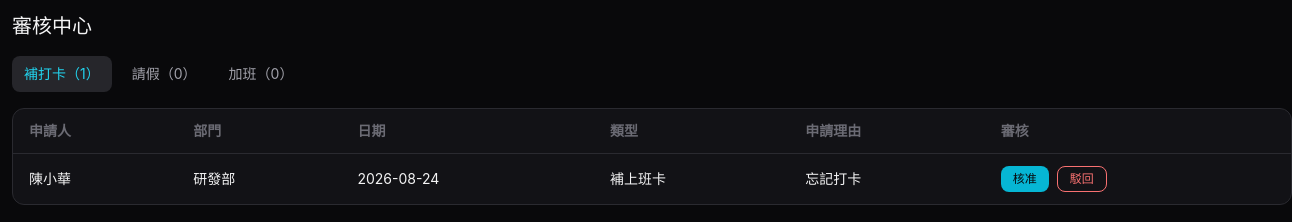
Test case: 核准後該筆從清單移除
The width and height of the screenshot is (1292, 222).
Click the button "核准": point(1025, 179) [1001,166,1049,192]
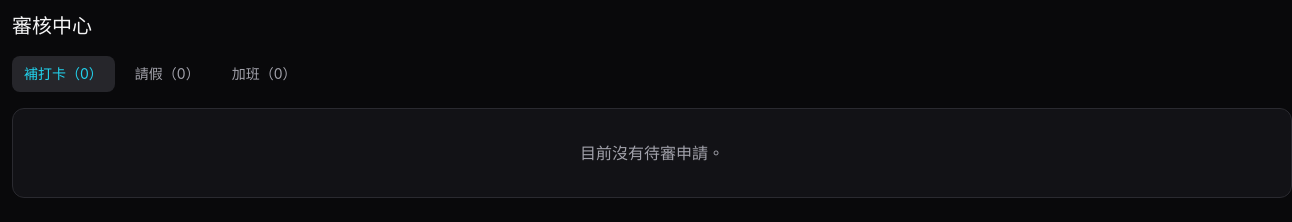
Result: the text "陳小華" is gone
